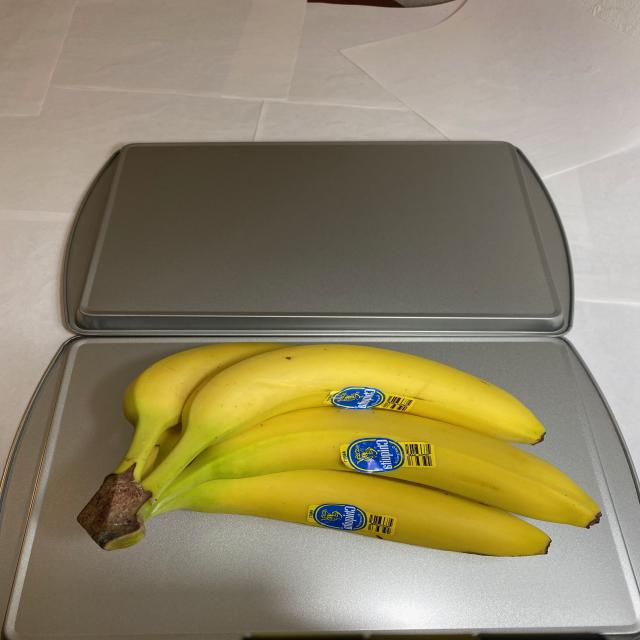banana: (74, 341, 607, 573)
